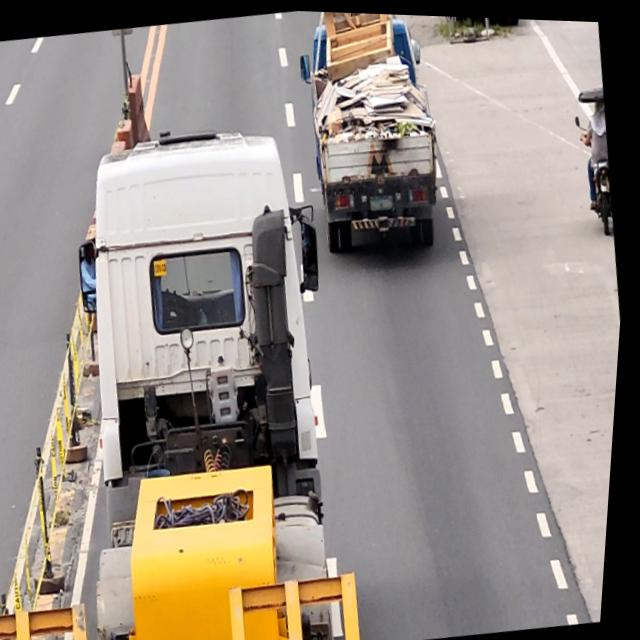License-Plate: (373, 192, 397, 209)
Tricycle: (568, 81, 625, 235)
Truck: (35, 108, 398, 640), (282, 9, 460, 262)
